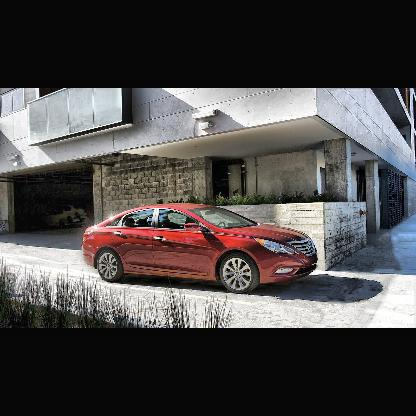Hyundai Sonata Sedan 2012: (79, 200, 319, 296)
